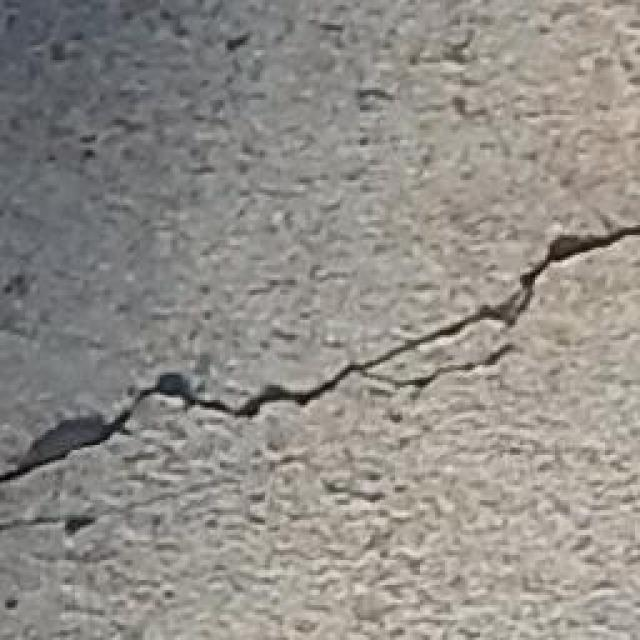concrete-crack: (3, 221, 640, 493)
